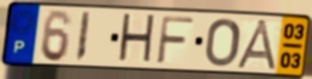6: (38, 8, 75, 64)
A: (233, 18, 280, 72)
F: (154, 14, 197, 67)
H: (116, 11, 158, 67)
I: (73, 10, 93, 64)
O: (204, 17, 243, 69)
